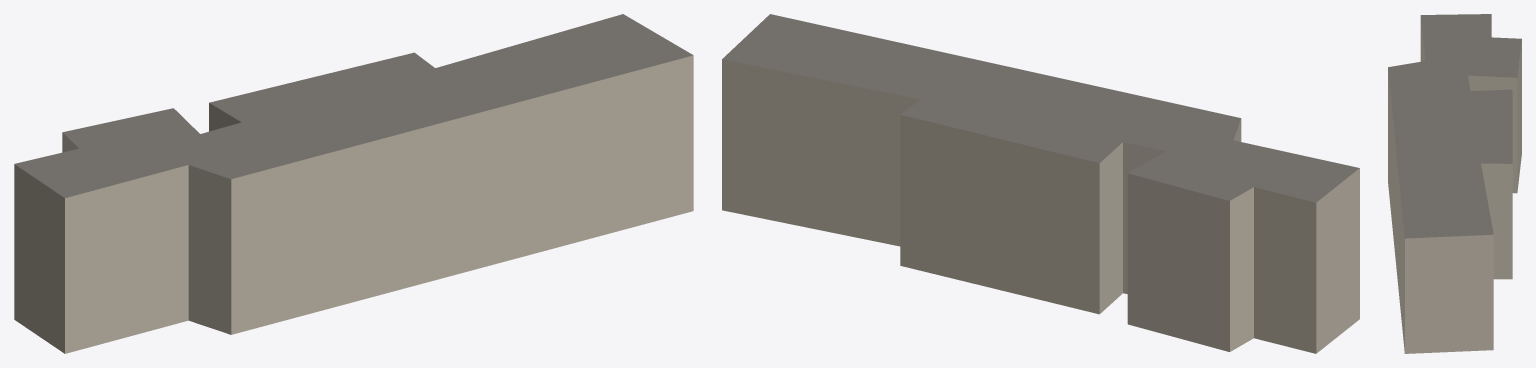
3 views of the same model, side by side, from view 1: azimuth 30°, elevation 25°; view 2: azimuth 150°, elevation 25°; view 3: azimuth 270°, elevation 25° (orthographic). The views are drawn at different scales.
Parts seen in each view (by area): view 1: HP-w1512914150; view 2: HP-w1512914150; view 3: HP-w1512914150.
Part boxes in pixels (left/top/right/bottom): HP-w1512914150: left=14, top=14, right=693, bottom=353; HP-w1512914150: left=722, top=14, right=1359, bottom=353; HP-w1512914150: left=1388, top=14, right=1521, bottom=353.
Size of the model in its own units: 75.11 by 18 by 18.93.
